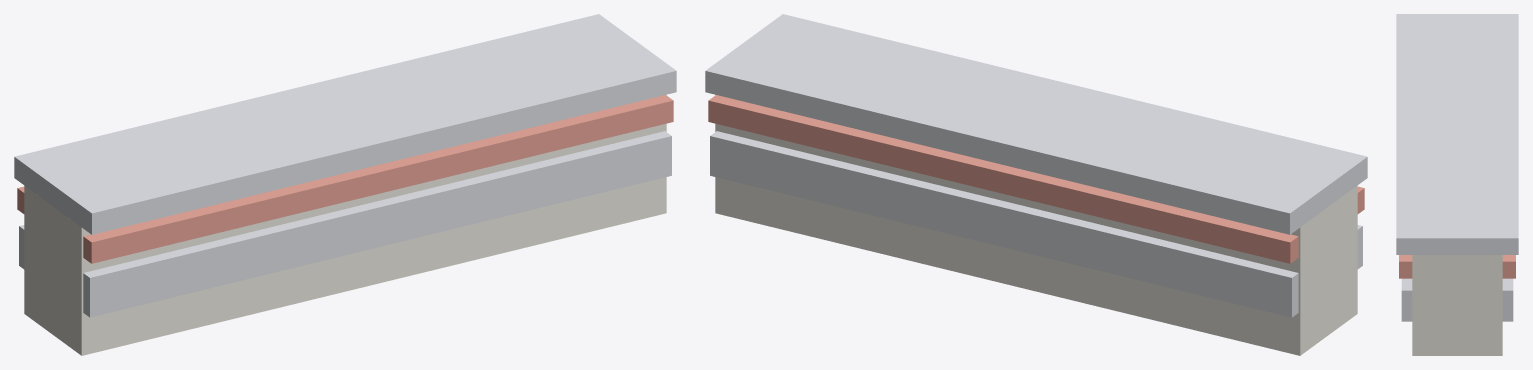
Rendered from retro-diner-and-roadside-motel-diner-roofline-chrome-b-7347e012__37316.glb.
3 renders of one model, left to right at view 1: azimuth 30°, elevation 25°; view 2: azimuth 150°, elevation 25°; view 3: azimuth 270°, elevation 25°, orthographic. The views are drawn at different scales.
Visible parts, largest first — view 1: diner-roofline-chrome-band-chrome, diner-roofline-chrome-band-cream, diner-roofline-chrome-band-coral; view 2: diner-roofline-chrome-band-chrome, diner-roofline-chrome-band-cream, diner-roofline-chrome-band-coral; view 3: diner-roofline-chrome-band-chrome, diner-roofline-chrome-band-cream, diner-roofline-chrome-band-coral.
Boxes of the visible parts, <box> form: diner-roofline-chrome-band-chrome: <box>14,14,676,317</box>; diner-roofline-chrome-band-cream: <box>24,94,666,355</box>; diner-roofline-chrome-band-coral: <box>17,95,673,263</box>; diner-roofline-chrome-band-chrome: <box>705,14,1367,317</box>; diner-roofline-chrome-band-cream: <box>715,94,1357,355</box>; diner-roofline-chrome-band-coral: <box>708,95,1364,263</box>; diner-roofline-chrome-band-chrome: <box>1396,14,1518,321</box>; diner-roofline-chrome-band-cream: <box>1412,255,1502,355</box>; diner-roofline-chrome-band-coral: <box>1399,255,1515,278</box>.
Size of the model in its own units: 2 by 0.4899 by 0.46.
